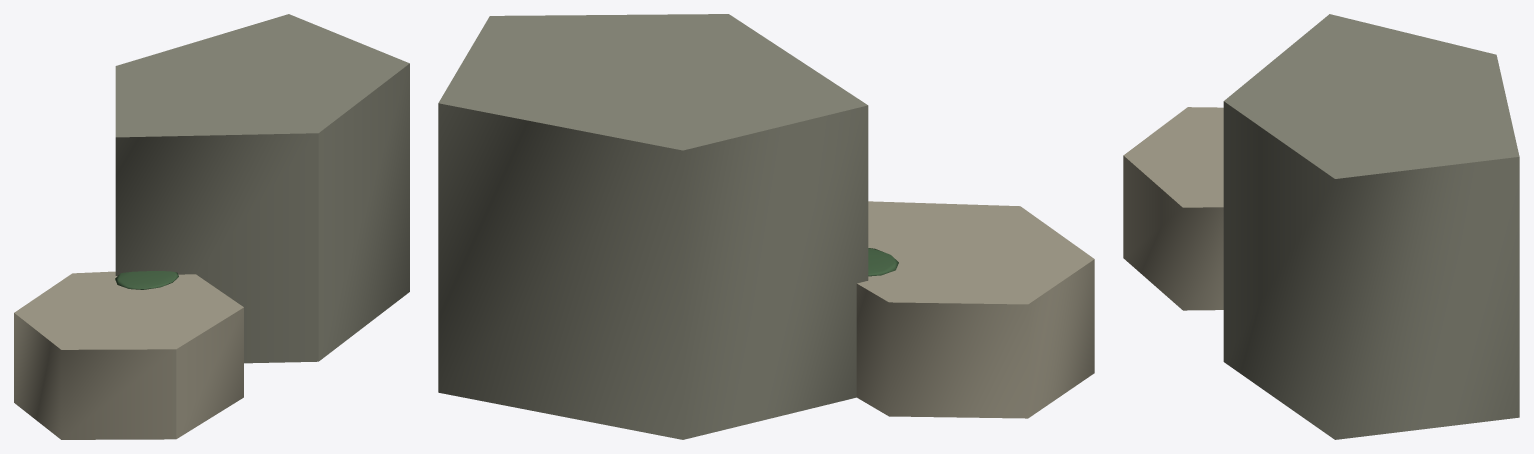
The picture shows the model from 3 angles, left to right: view 1: azimuth 30°, elevation 25°; view 2: azimuth 150°, elevation 25°; view 3: azimuth 270°, elevation 25°; orthographic projection. The views are drawn at different scales.
Parts seen in each view (by area): view 1: climb-rocks-0-0, climb-rocks-0-1, 바위 01; view 2: climb-rocks-0-0, climb-rocks-0-1, 바위 01; view 3: climb-rocks-0-0, climb-rocks-0-1.
Boxes of the visible parts, x1,y1,x2,y2 form: climb-rocks-0-0: (115,14,409,363); climb-rocks-0-1: (14,271,243,439); 바위 01: (115,271,178,289); climb-rocks-0-0: (438,14,868,439); climb-rocks-0-1: (856,201,1094,418); 바위 01: (868,248,898,276); climb-rocks-0-0: (1223,14,1519,439); climb-rocks-0-1: (1123,107,1223,310).
Bounding box in the file's own units: 3.21 × 1.7 × 2.34.
